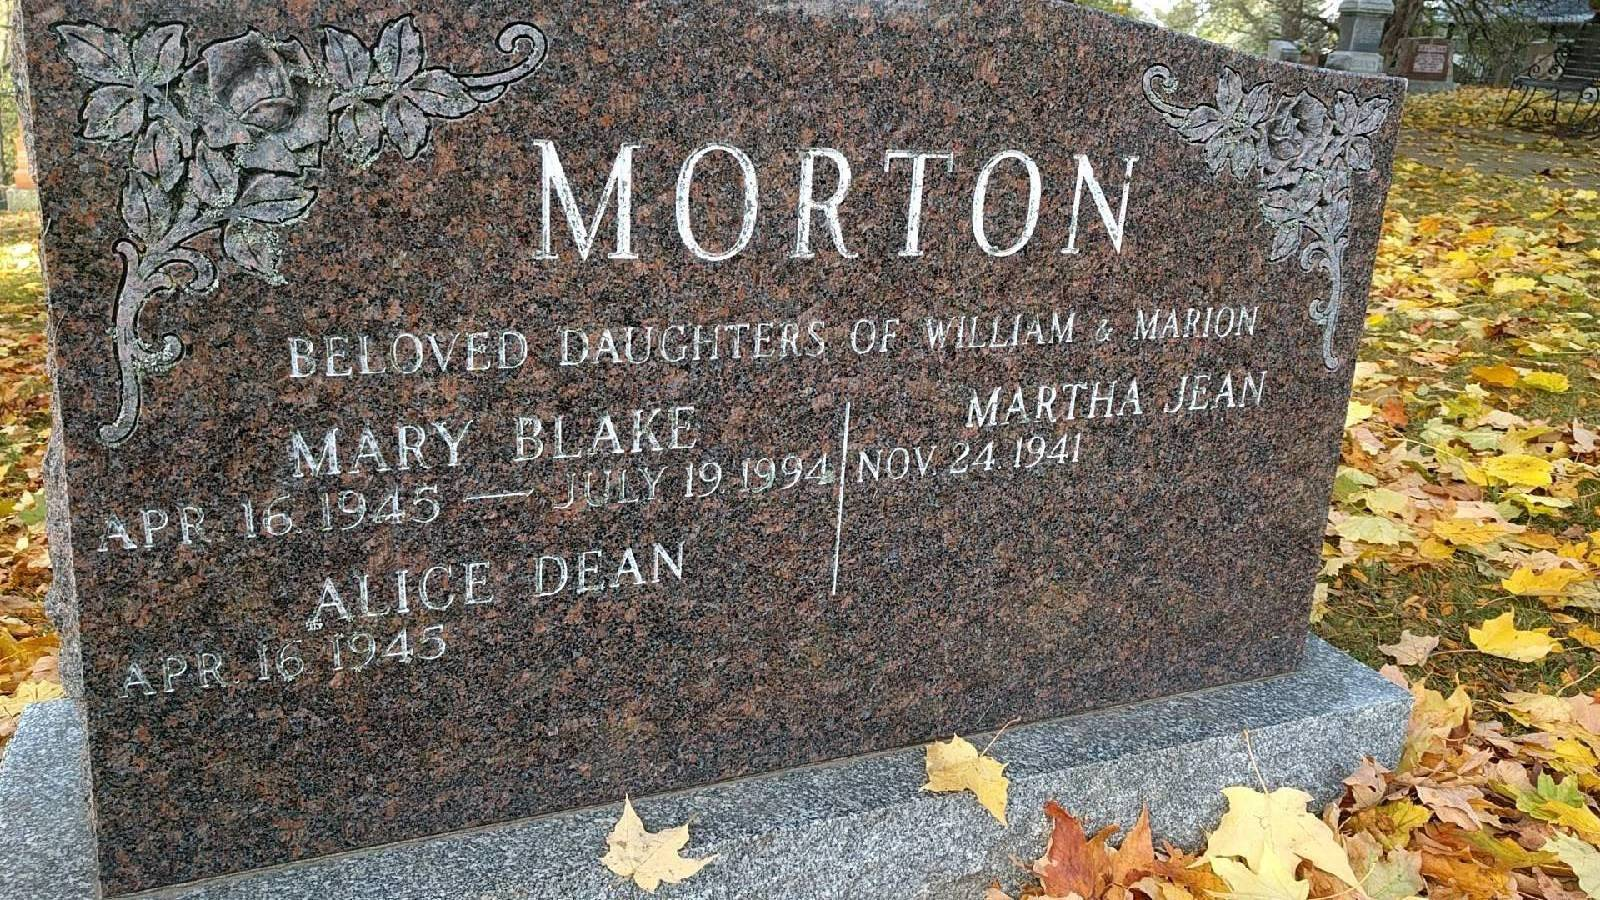upright: (14, 3, 1445, 891)
